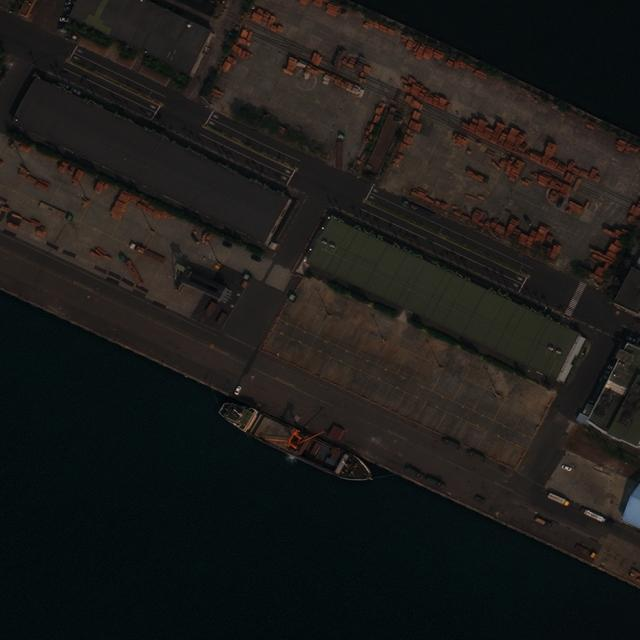Container Ship: (213, 395, 381, 493)
